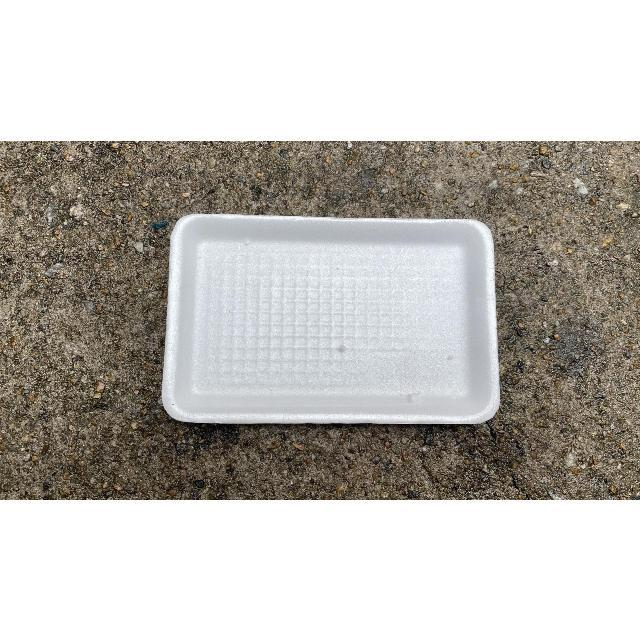Plastico descartable: (160, 214, 501, 428)
